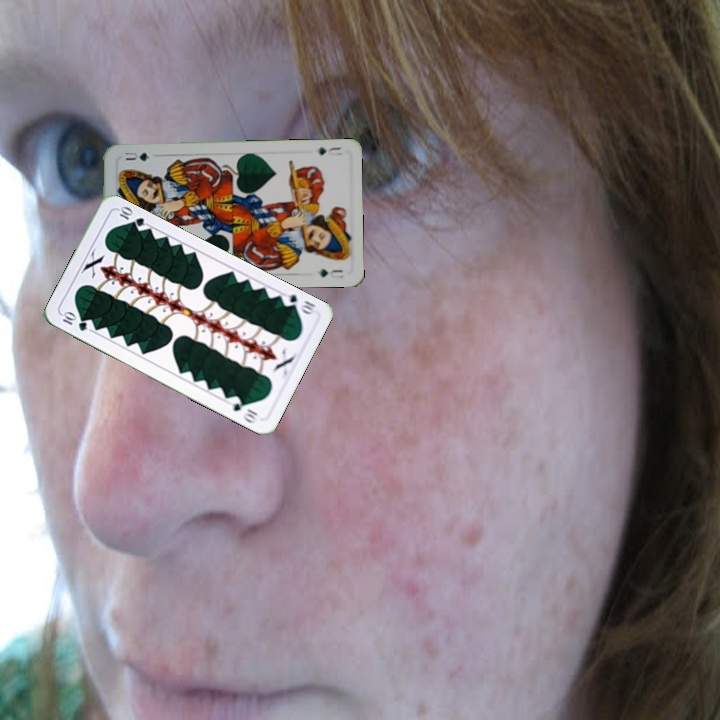G10: (278, 289, 318, 318), (57, 308, 90, 334)
GU: (314, 143, 345, 158)
